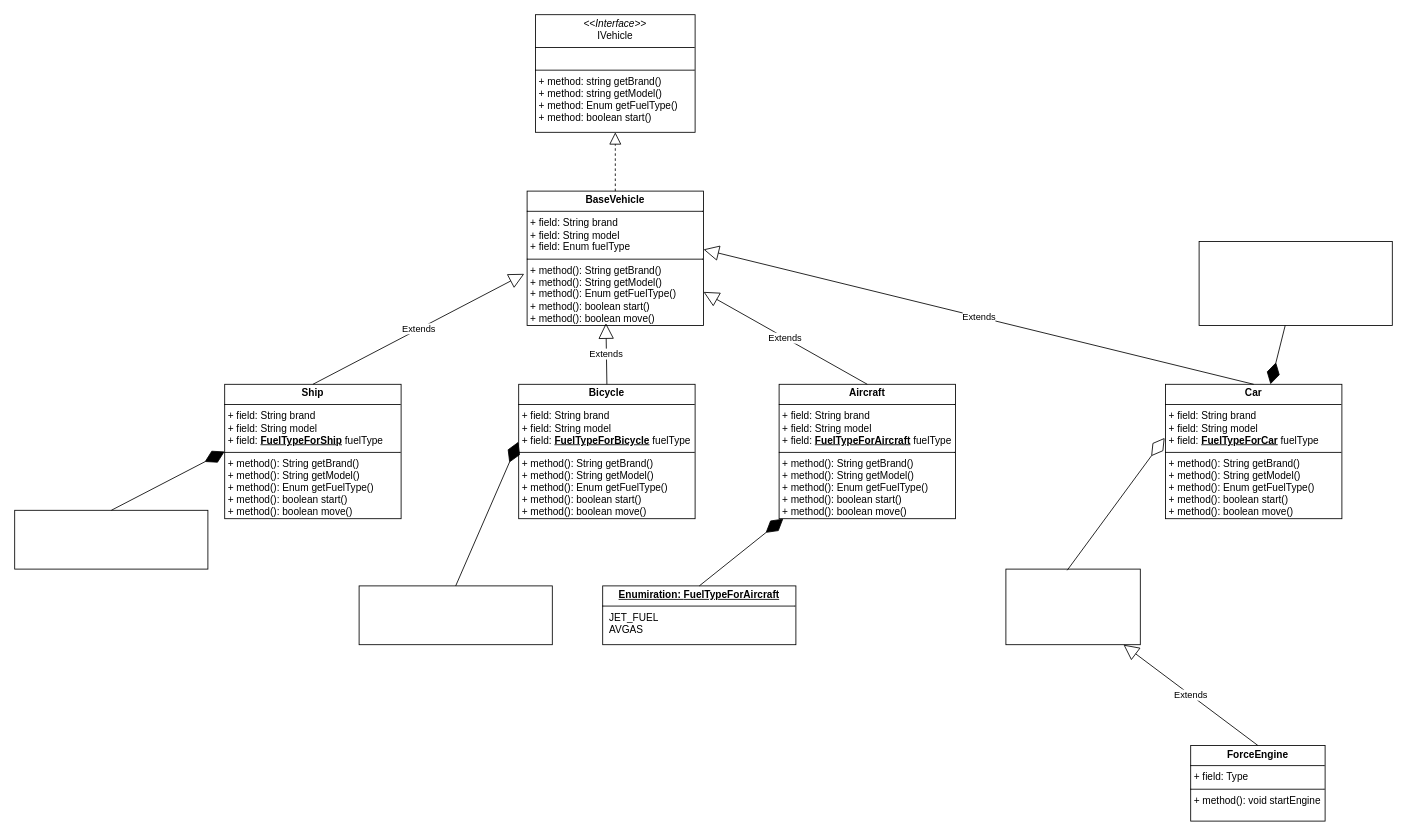
The diagram is 1407 pixels wide and 836 high, and some of its shapes have lost their labels. Each missing label, with the centre of its shape:
"Engine permits ForceEngine + field: Type + method(): void startEngine" belongs at point 1072,606.
"Enumiration: FuelTypeForBicycle HUMAN_POWER ELECTRIC_BATTERY" belongs at point 455,615.
"Enumiration: FuelTypeForCar PETROL DIESEL ELECTRIC HYBRID LPG" belongs at point 1295,283.
"Enumiration: FuelTypeForShip MARINE_DIESEL HEAVY_FUEL_OIL" belongs at point 111,539.
